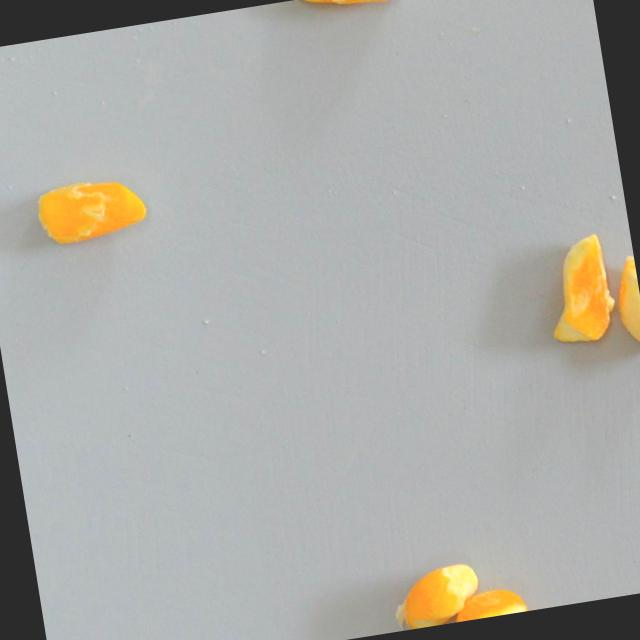pelicula: (533, 219, 624, 348), (30, 167, 150, 253), (384, 554, 486, 632), (601, 245, 640, 371), (441, 580, 530, 624), (286, 0, 413, 20)
